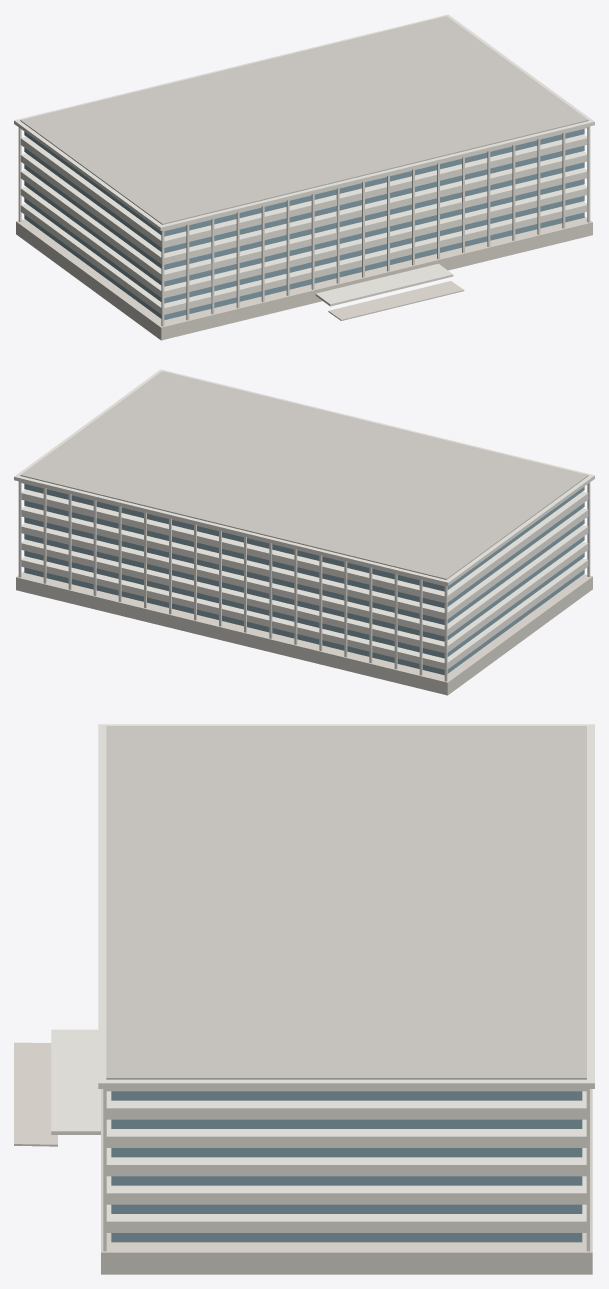
The model's file is 文泉楼.glb.
3 views of the same model, one above another, from view 1: azimuth 30°, elevation 25°; view 2: azimuth 150°, elevation 25°; view 3: azimuth 270°, elevation 25° (orthographic). The views are drawn at different scales.
Visible parts, largest first — view 1: 文泉楼_roofDeck, 文泉楼_trim, 文泉楼_glass, 文泉楼_stone; view 2: 文泉楼_roofDeck, 文泉楼_trim, 文泉楼_glass, 文泉楼_stone; view 3: 文泉楼_roofDeck, 文泉楼_trim, 文泉楼_glass, 文泉楼_stone.
Boxes of the visible parts, <box> form: 文泉楼_roofDeck: <box>20,16,588,224</box>; 文泉楼_trim: <box>14,14,594,326</box>; 文泉楼_glass: <box>24,129,584,320</box>; 文泉楼_stone: <box>16,216,592,340</box>; 文泉楼_roofDeck: <box>20,371,588,579</box>; 文泉楼_trim: <box>14,369,594,681</box>; 文泉楼_glass: <box>24,484,584,675</box>; 文泉楼_stone: <box>16,571,592,695</box>; 文泉楼_roofDeck: <box>106,726,586,1079</box>; 文泉楼_trim: <box>51,724,594,1251</box>; 文泉楼_glass: <box>111,1091,582,1242</box>; 文泉楼_stone: <box>14,1042,592,1274</box>.
Size of the model in its own units: 106 by 26.75 by 72.55.
